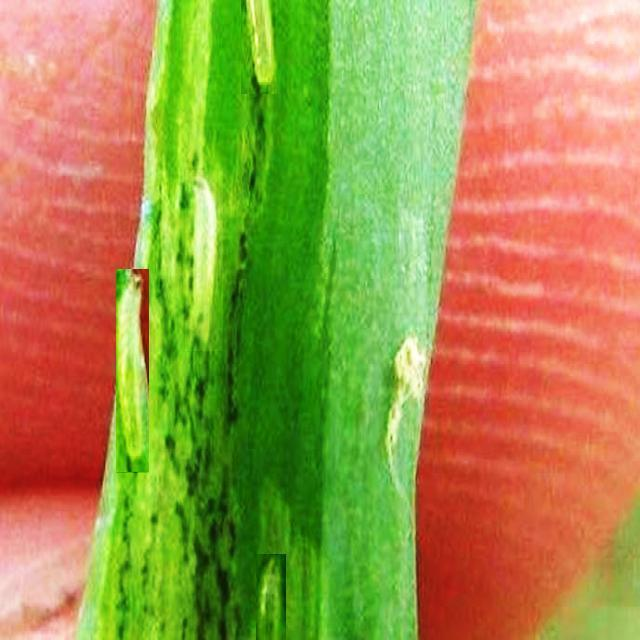whorl-maggot: (185, 170, 223, 351), (116, 270, 149, 474), (241, 0, 277, 94), (256, 554, 286, 640)
